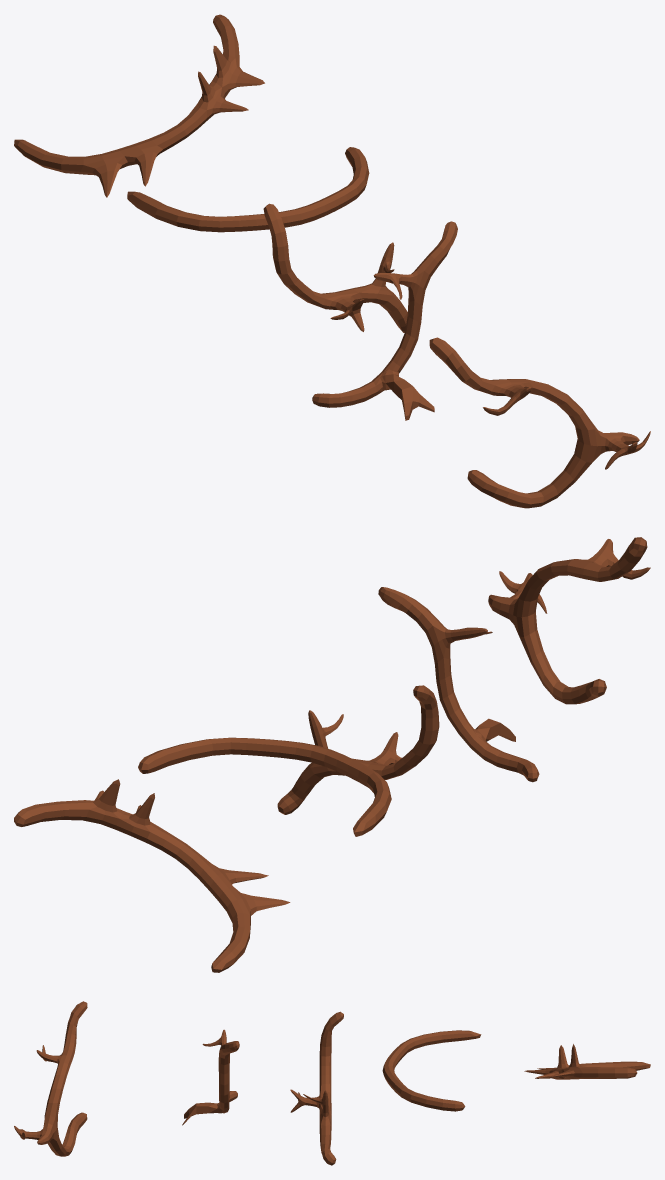
The model's file is SmallBranch 1.fbx.
3 renders of one model, top to bottom at view 1: azimuth 30°, elevation 25°; view 2: azimuth 150°, elevation 25°; view 3: azimuth 270°, elevation 25°, orthographic. The views are drawn at different scales.
Parts seen in each view (by area): view 1: Cube.007, Cube.003, Cube.002, Cube.006, Cube; view 2: Cube.007, Cube.003, Cube.006, Cube.002, Cube; view 3: Cube.003, Cube.006, Cube, Cube.007, Cube.002.
Part boxes in pixels (left/top/right/bottom): Cube.007: left=14, top=14, right=264, bottom=197; Cube.003: left=429, top=337, right=650, bottom=508; Cube.002: left=312, top=221, right=457, bottom=420; Cube.006: left=127, top=147, right=369, bottom=232; Cube: left=263, top=203, right=407, bottom=332; Cube.007: left=14, top=779, right=290, bottom=972; Cube.003: left=488, top=537, right=650, bottom=704; Cube.006: left=138, top=737, right=391, bottom=836; Cube.002: left=378, top=587, right=539, bottom=782; Cube: left=277, top=685, right=439, bottom=814; Cube.003: left=14, top=1001, right=87, bottom=1156; Cube.006: left=382, top=1030, right=481, bottom=1111; Cube: left=290, top=1011, right=343, bottom=1165; Cube.007: left=524, top=1044, right=650, bottom=1079; Cube.002: left=182, top=1029, right=239, bottom=1125.
Bounding box in the file's own units: 6943 × 5564 × 24964.
